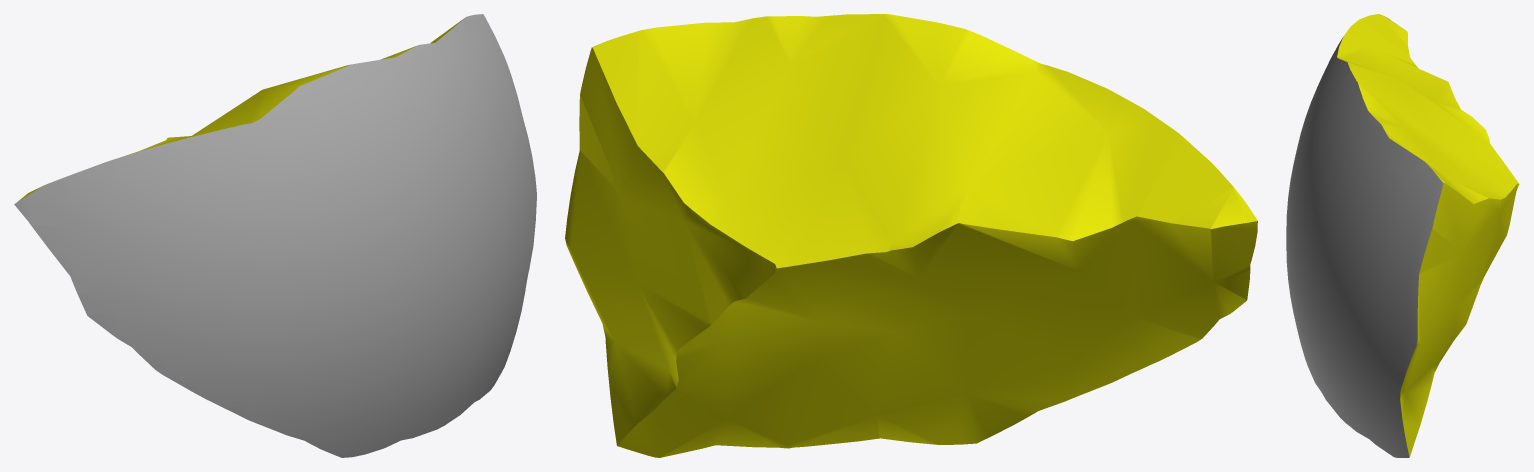
The model's file is moon_shard_11.fbx.
The picture shows the model from 3 angles, left to right: view 1: azimuth 30°, elevation 25°; view 2: azimuth 150°, elevation 25°; view 3: azimuth 270°, elevation 25°; orthographic projection. The views are drawn at different scales.
Visible parts, largest first — view 1: shard11; view 2: shard11; view 3: shard11.
Part boxes in pixels (left/top/right/bottom): shard11: left=14, top=14, right=536, bottom=457; shard11: left=565, top=14, right=1257, bottom=457; shard11: left=1286, top=14, right=1519, bottom=457.
Size of the model in its own units: 21.58 by 14.56 by 9.91.
